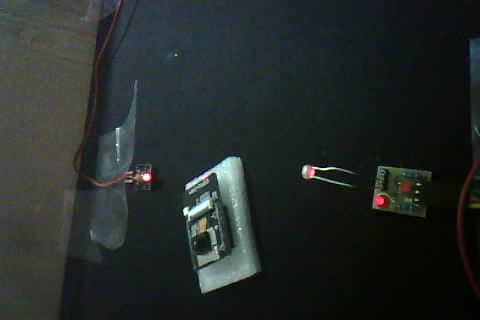esp32: (178, 154, 259, 287)
